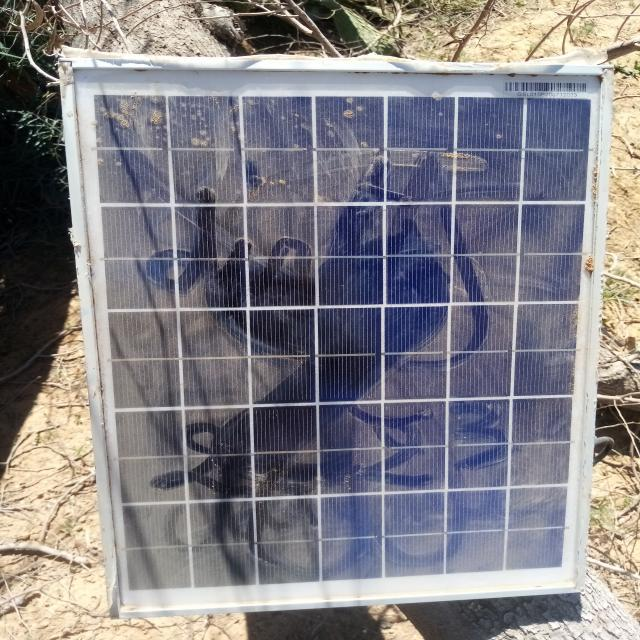faulty: (67, 64, 607, 619)
